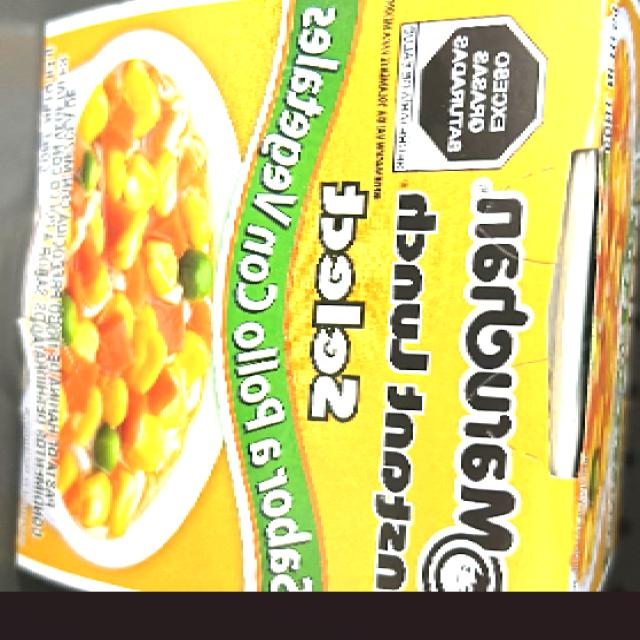maruchanPollo: (27, 10, 616, 600)
